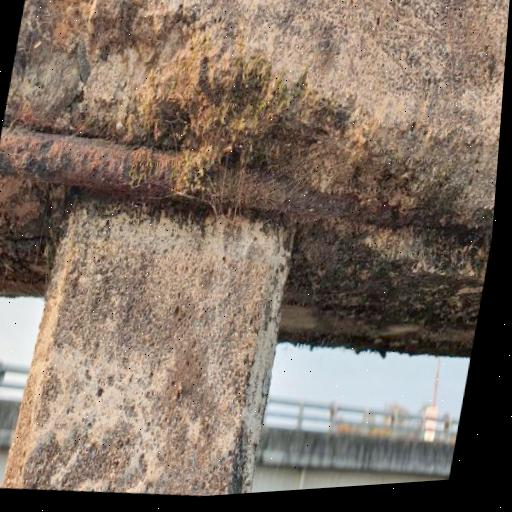exposed_rebar: (0, 130, 494, 231)
